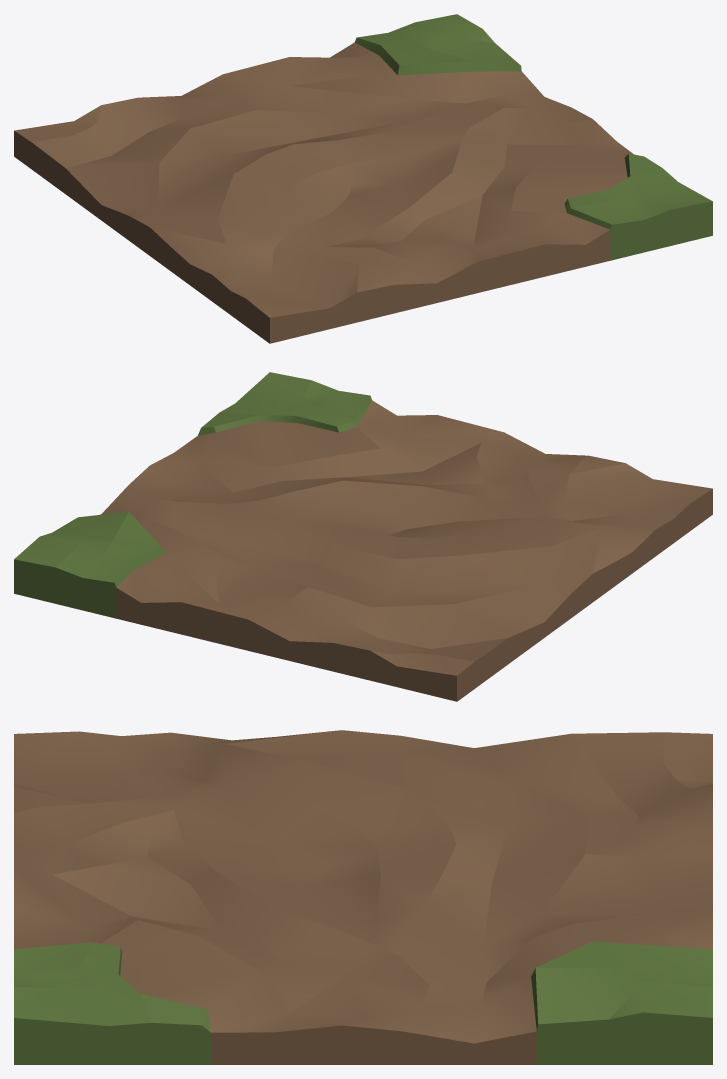
Rendered from Ground_Path_Entrance_R.glb.
3 views of the same model, one above another, from view 1: azimuth 30°, elevation 25°; view 2: azimuth 150°, elevation 25°; view 3: azimuth 270°, elevation 25° (orthographic). The views are drawn at different scales.
Visible parts, largest first — view 1: Ground_Path_Entrance_R; view 2: Ground_Path_Entrance_R; view 3: Ground_Path_Entrance_R.
Boxes of the visible parts, x1,y1,x2,y2 form: Ground_Path_Entrance_R: [14, 14, 712, 343]; Ground_Path_Entrance_R: [14, 372, 712, 701]; Ground_Path_Entrance_R: [14, 730, 712, 1064].
Bounding box in the file's own units: 1.47 × 0.1477 × 1.47.
